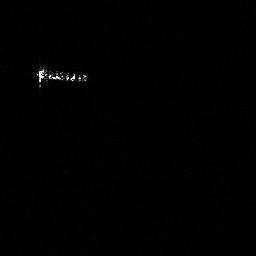ship: (34, 63, 89, 89)
